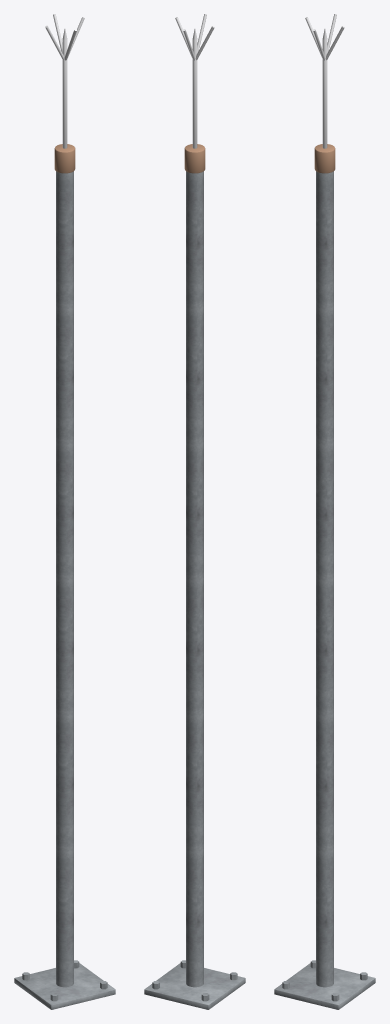
The model's file is ELE-SPD-001.glb.
3 renders of one model, left to right at view 1: azimuth 30°, elevation 25°; view 2: azimuth 150°, elevation 25°; view 3: azimuth 330°, elevation 25°, orthographic.
Parts seen in each view (by area): view 1: ELE-SPD-001_mastro, ELE-SPD-001_flange, ELE-SPD-001_haste, ELE-SPD-001_isolador; view 2: ELE-SPD-001_mastro, ELE-SPD-001_flange, ELE-SPD-001_haste, ELE-SPD-001_isolador; view 3: ELE-SPD-001_mastro, ELE-SPD-001_flange, ELE-SPD-001_haste, ELE-SPD-001_isolador.
Boxes of the visible parts, x1,y1,x2,y2 form: ELE-SPD-001_mastro: (56,171,73,987); ELE-SPD-001_flange: (14,963,115,1009); ELE-SPD-001_haste: (62,40,67,148); ELE-SPD-001_isolador: (54,144,75,173); ELE-SPD-001_mastro: (186,171,203,987); ELE-SPD-001_flange: (144,963,245,1009); ELE-SPD-001_haste: (192,40,197,148); ELE-SPD-001_isolador: (184,144,205,173); ELE-SPD-001_mastro: (316,171,333,987); ELE-SPD-001_flange: (274,963,375,1009); ELE-SPD-001_haste: (322,40,327,148); ELE-SPD-001_isolador: (314,144,335,173).
Bounding box in the file's own units: 0.25 × 3.57 × 0.25.
Materials: 3 (1 with a texture image).
